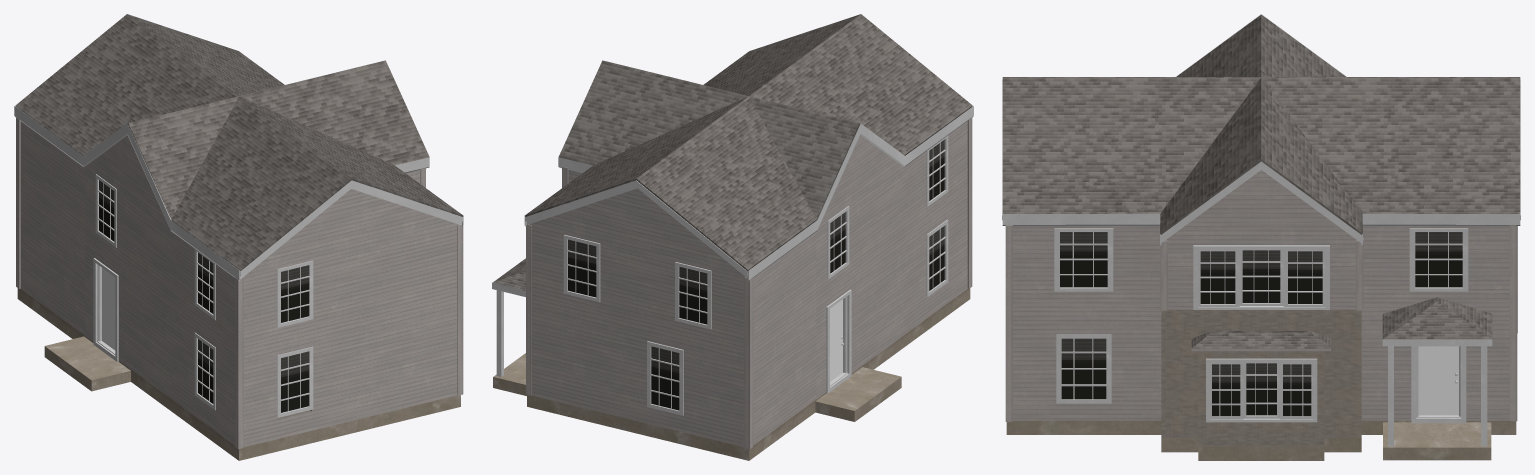
Rendered from house-6.glb.
3 renders of one model, left to right at view 1: azimuth 30°, elevation 25°; view 2: azimuth 150°, elevation 25°; view 3: azimuth 270°, elevation 25°, orthographic. The views are drawn at different scales.
Parts seen in each view (by area): view 1: House_6_col_V2; view 2: House_6_col_V2; view 3: House_6_col_V2.
Boxes of the visible parts, box(x1,y1,x2,y2) form: House_6_col_V2: box(14, 14, 463, 460); House_6_col_V2: box(492, 14, 973, 460); House_6_col_V2: box(1002, 14, 1520, 460).
Bounding box in the file's own units: 8.42 × 6.66 × 10.59.
1 material, 1 textured.
